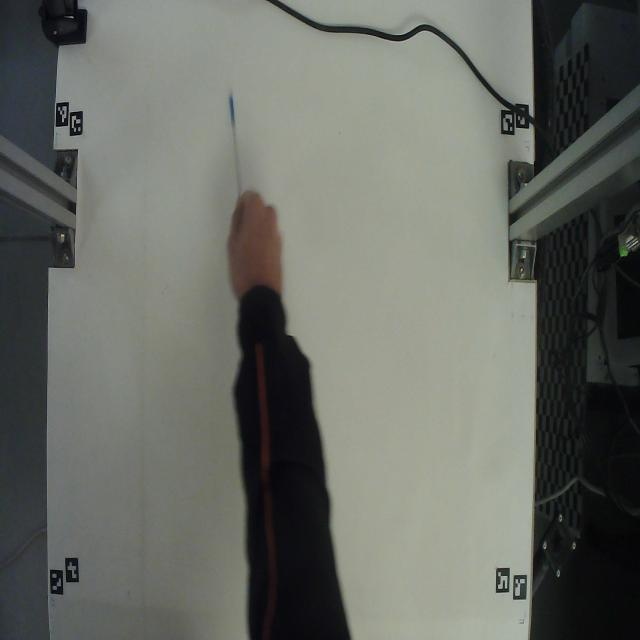NoPres: (210, 63, 260, 233)
